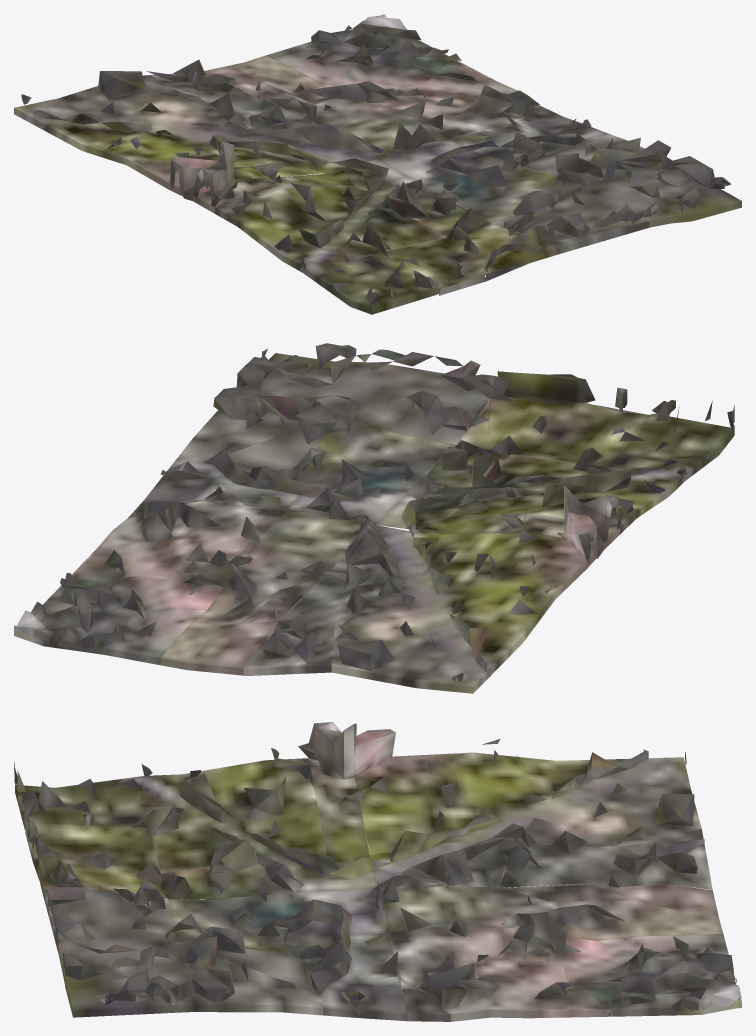
3 views of the same model, one above another, from view 1: azimuth 30°, elevation 25°; view 2: azimuth 150°, elevation 25°; view 3: azimuth 270°, elevation 25° (orthographic). The views are drawn at different scales.
Parts seen in each view (by area): view 1: Mesh_0; view 2: Mesh_0; view 3: Mesh_0.
Part boxes in pixels (x1,y1,x2,y2): Mesh_0: [14, 14, 741, 314]; Mesh_0: [14, 343, 734, 693]; Mesh_0: [14, 722, 741, 1021].
Size of the model in its own units: 532 by 107 by 660.
1 material, 1 textured.
